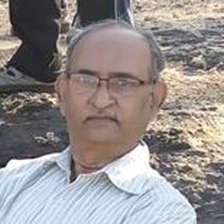no_mask: (69, 39, 149, 141)
